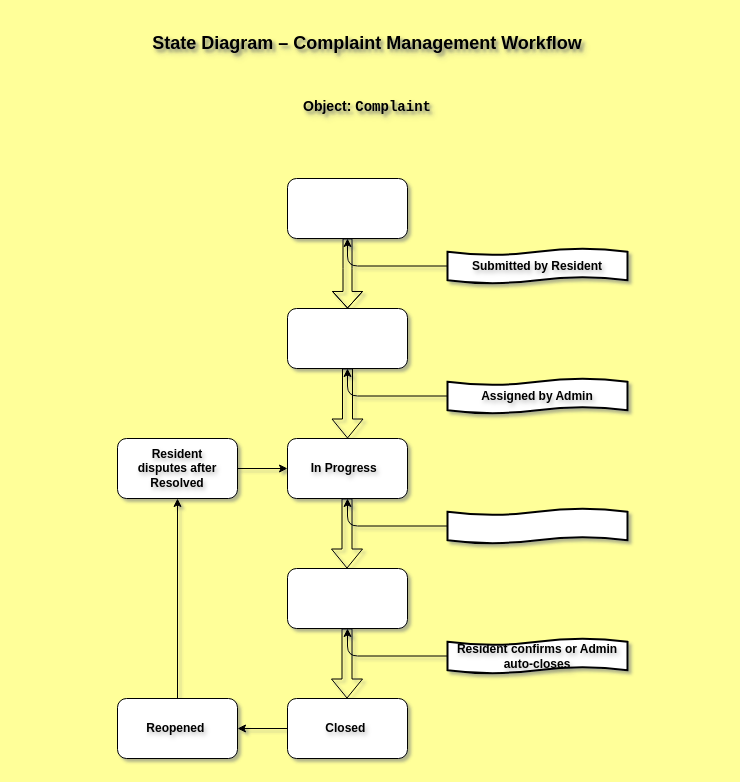
This 740x782 diagram has some shape labels left out. Here are the shapes that lost their labels. From the top down, the centre of each, then its label:
pixel 347 208: New
pixel 347 338: Assigned
pixel 537 525: Staff marks as Resolved
pixel 347 598: Resolved
